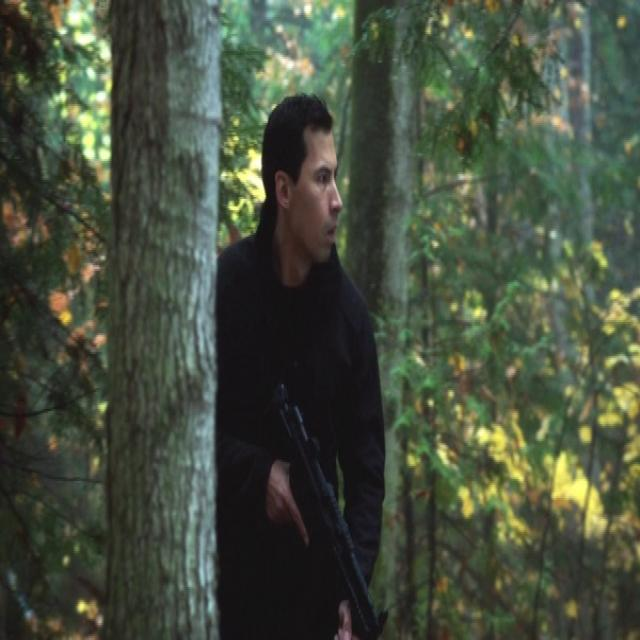rifle: (261, 373, 387, 640)
